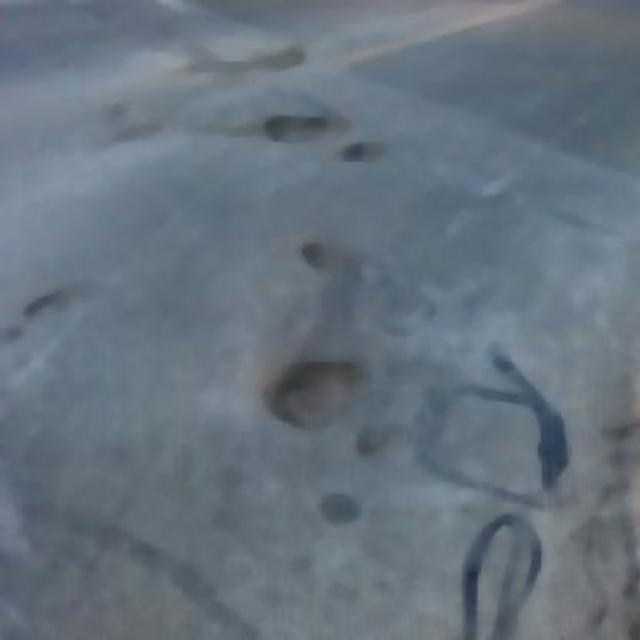Pothole: (463, 498, 542, 638), (272, 328, 358, 429), (262, 97, 344, 149), (35, 273, 87, 332), (310, 472, 355, 522), (347, 126, 385, 172)
